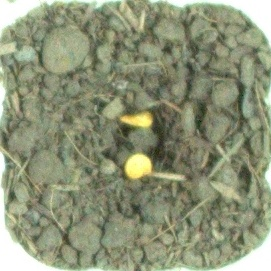chilli seed: (121, 151, 154, 181), (116, 107, 156, 129)
